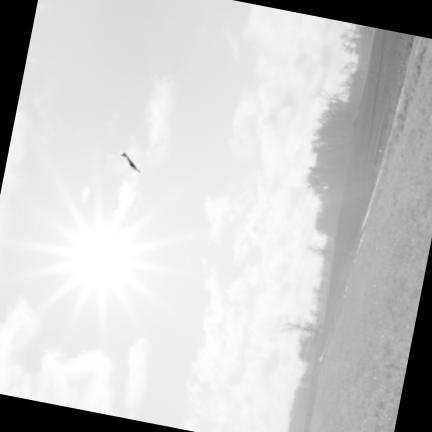Shahed: (121, 153, 140, 172)
